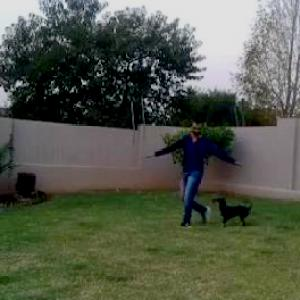land: (165, 118, 248, 217)
